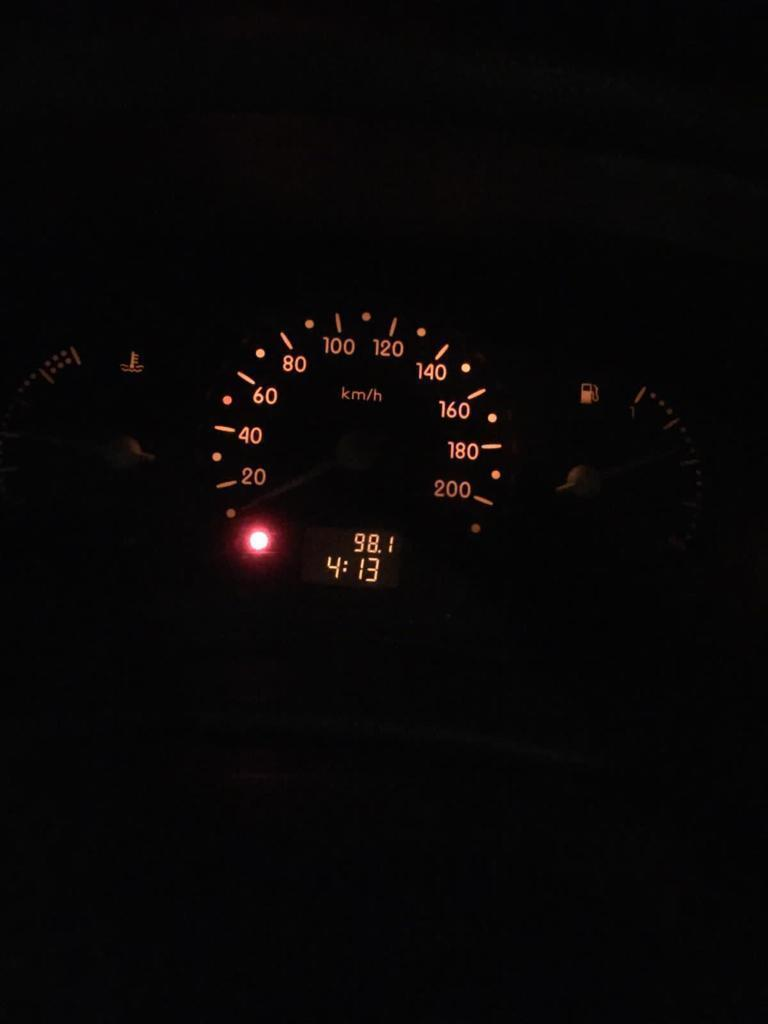,: (377, 549, 381, 554)
1: (357, 557, 364, 580), (387, 535, 394, 553)
3: (364, 557, 379, 582)
4: (325, 555, 341, 579)
8: (366, 533, 379, 553)
9: (352, 533, 365, 552)
X: (342, 560, 348, 573)
odometer: (296, 524, 403, 589)
